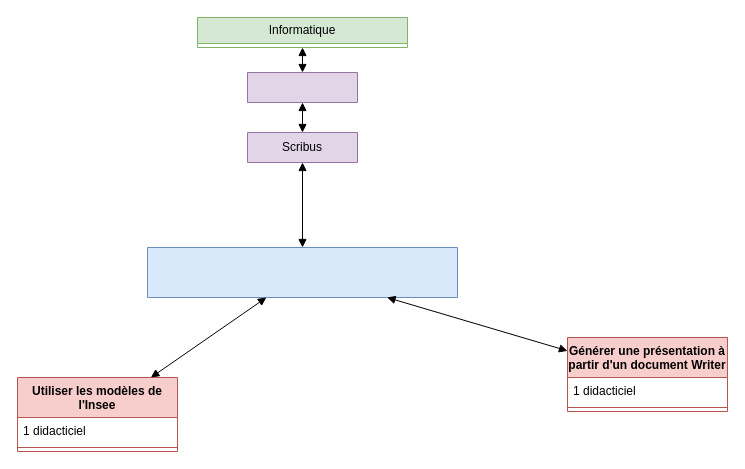
The diagram is 745 pixels wide and 469 high, and some of its shapes have lost their labels. The shapes that lost their labels are listed below. From the top down, each one's centre as x and y in pixels, then its label:
pixel 302 87: Outils d'édition
pixel 302 272: Mettre en page un document avec Scribus
